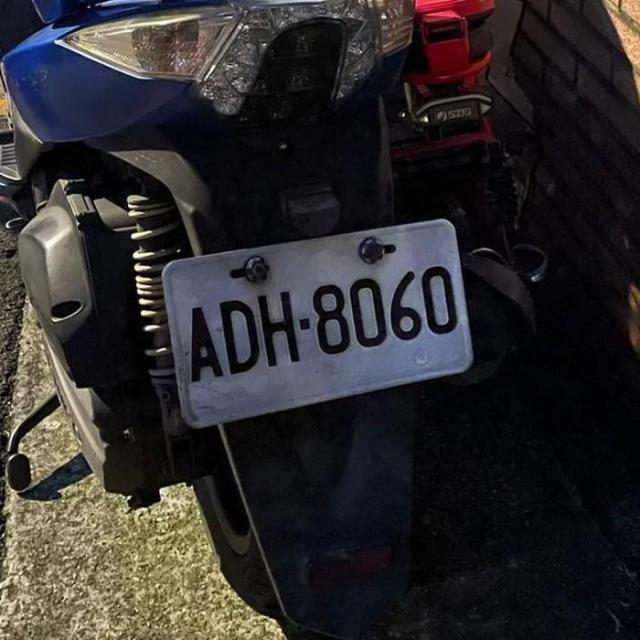W: (154, 214, 482, 431)
